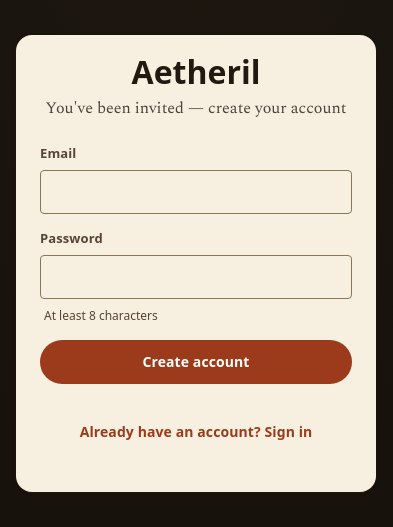
Signup screen › surfaces a used/expired invite error
The image size is (393, 527).
Step 1. Type "a@example.com" into the field labelled "Email" → [196, 192], box [57, 172, 335, 212]
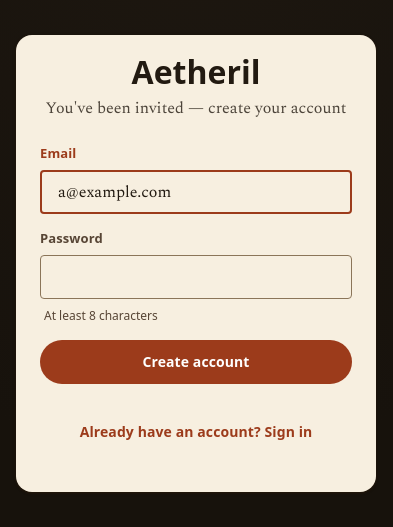
Step 2. Type "password123" into the password field labelled "Password" → [196, 276], box [57, 256, 335, 296]
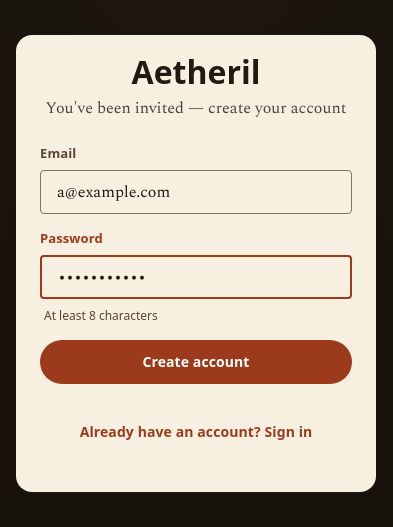
Step 3. Click the button "Create account" → [196, 362], box [40, 340, 352, 384]
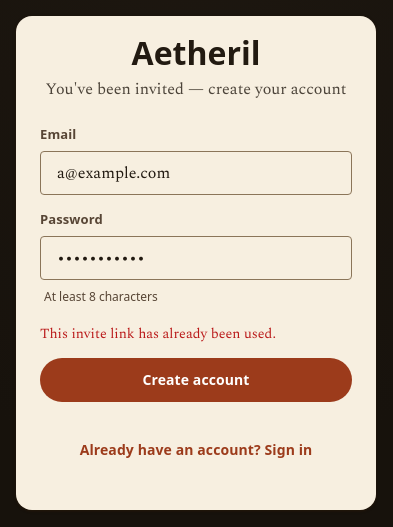
expect the message shows "already been used": met, box [40, 323, 276, 344]
